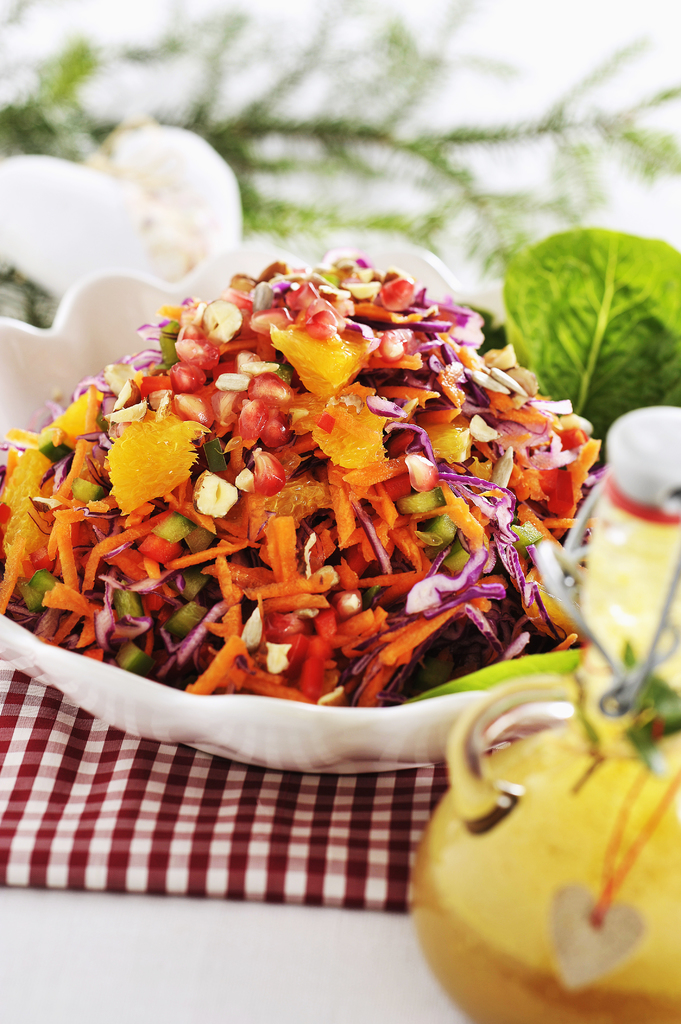Carrot: (44, 287, 581, 696)
